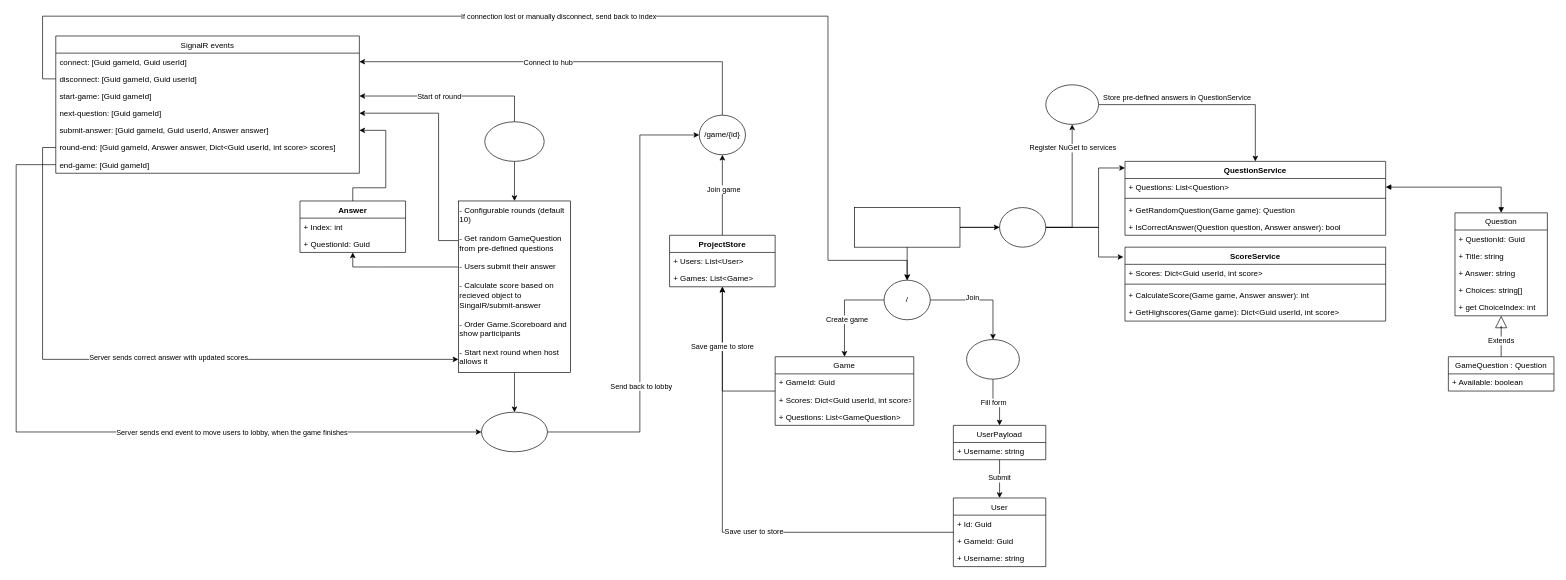
The diagram is 1566 pixels wide and 580 high, and some of its shapes have lost their labels. Each missing label, with the centre of its shape:
/user/create: point 992,359
End = inactive: point 514,432
RAM-API: point 1072,104
RickAndMortyKahoot: point 907,227
Services: point 1022,227
Start = active: point 514,141
